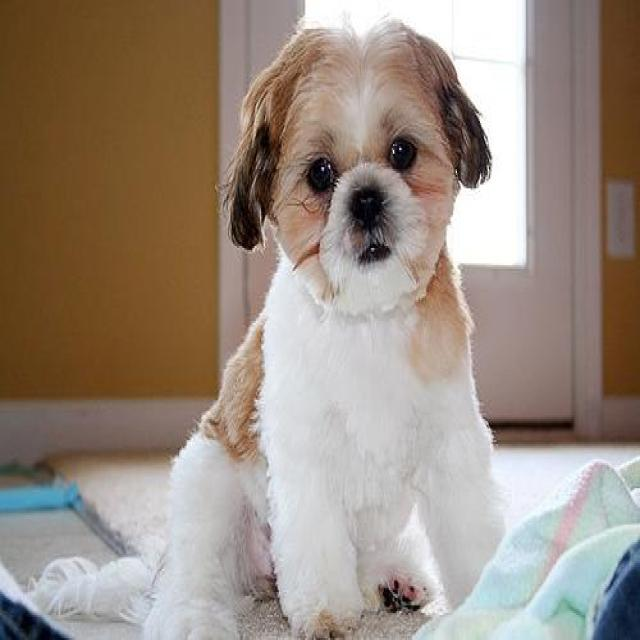shih_tzu: (25, 15, 507, 638)
